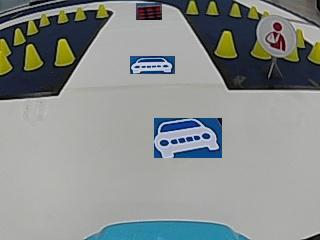cone: (215, 30, 238, 58), (53, 38, 75, 66), (23, 44, 43, 70), (0, 37, 12, 74), (250, 39, 270, 59), (307, 39, 319, 63), (13, 28, 26, 44), (95, 4, 108, 19), (206, 1, 219, 15), (74, 6, 86, 21), (27, 20, 39, 34), (56, 9, 68, 23), (229, 3, 241, 17), (186, 1, 198, 14), (39, 12, 50, 26), (247, 5, 258, 18)
patient: (261, 9, 296, 57)
